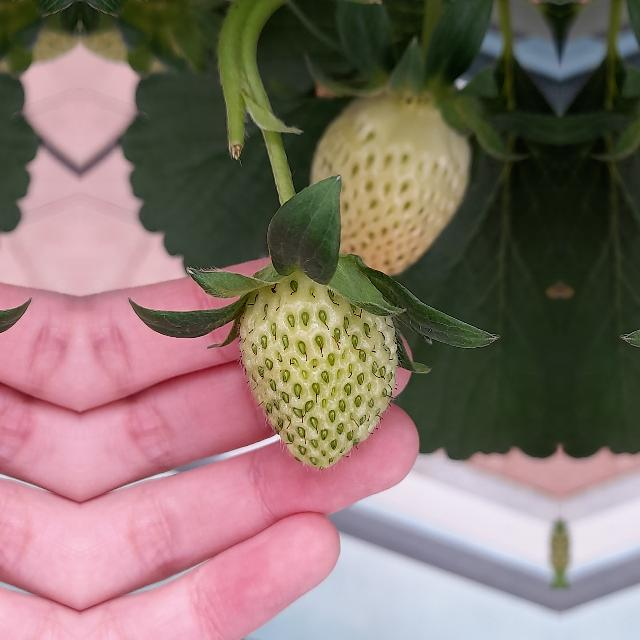Health_25: (238, 270, 398, 470), (311, 84, 471, 280)
